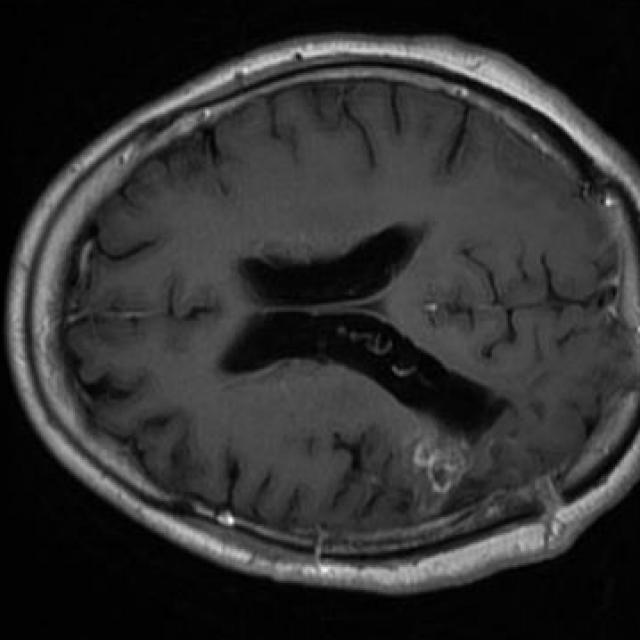glioma: (362, 419, 467, 505)
